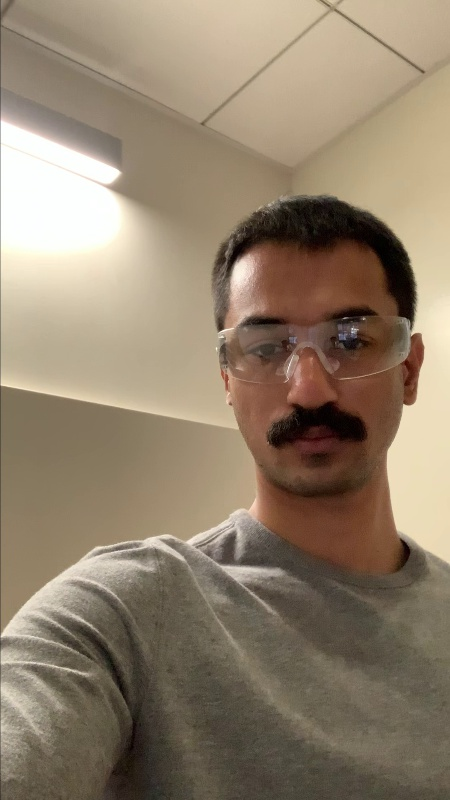glasses: (213, 313, 408, 375)
